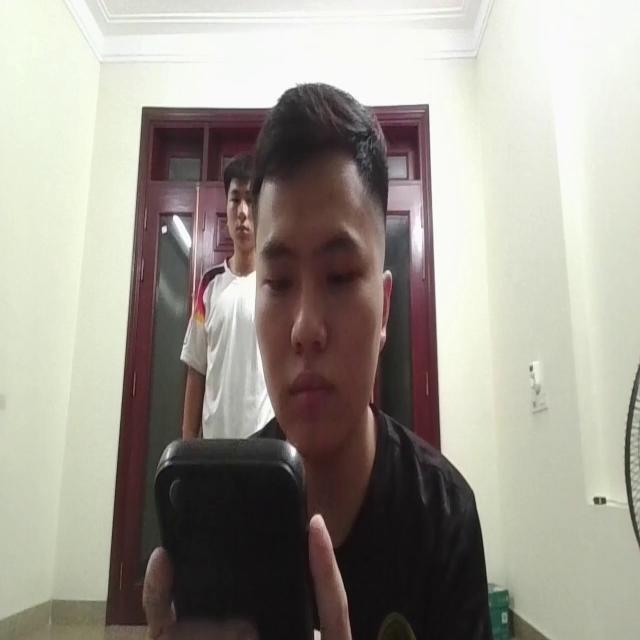extra_person: (179, 144, 261, 436)
phone: (154, 424, 318, 630)
student: (162, 86, 480, 640)
